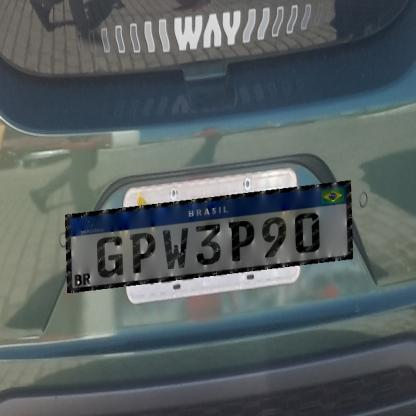PlacaM: (65, 181, 353, 293)
